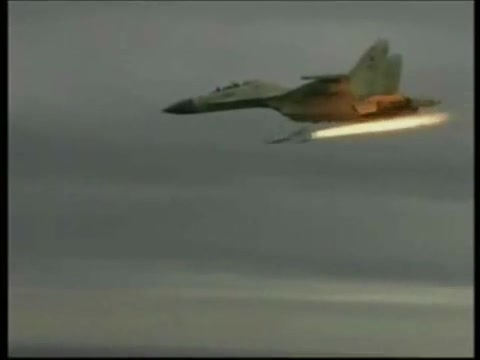aeroplane: (162, 39, 443, 125)
